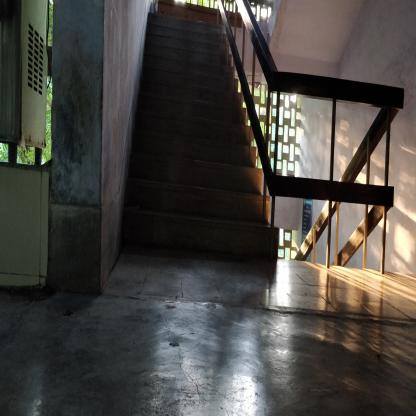stairs: (130, 161, 278, 280)
